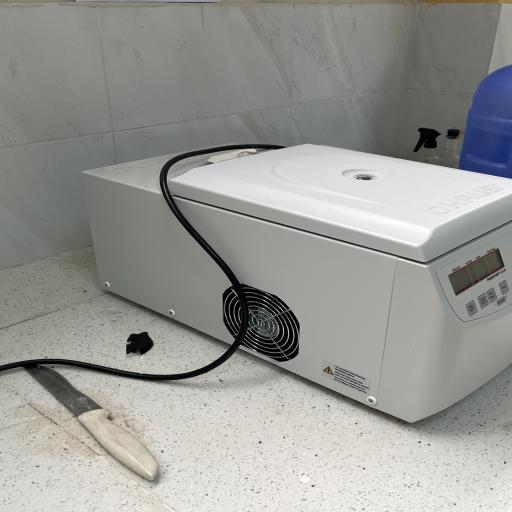Centrifuga_Ohaus_Frontier: (65, 132, 512, 434)
